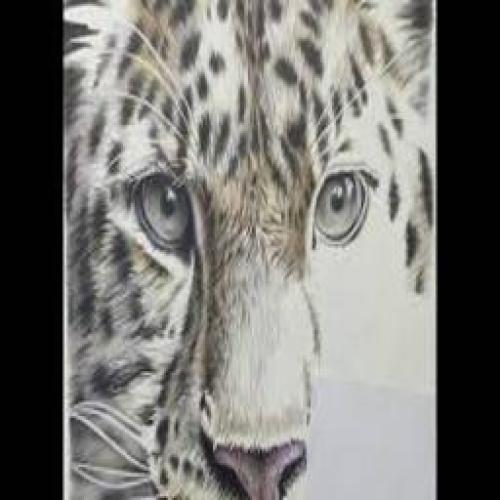amur_leopard-endangered: (62, 2, 434, 500)
